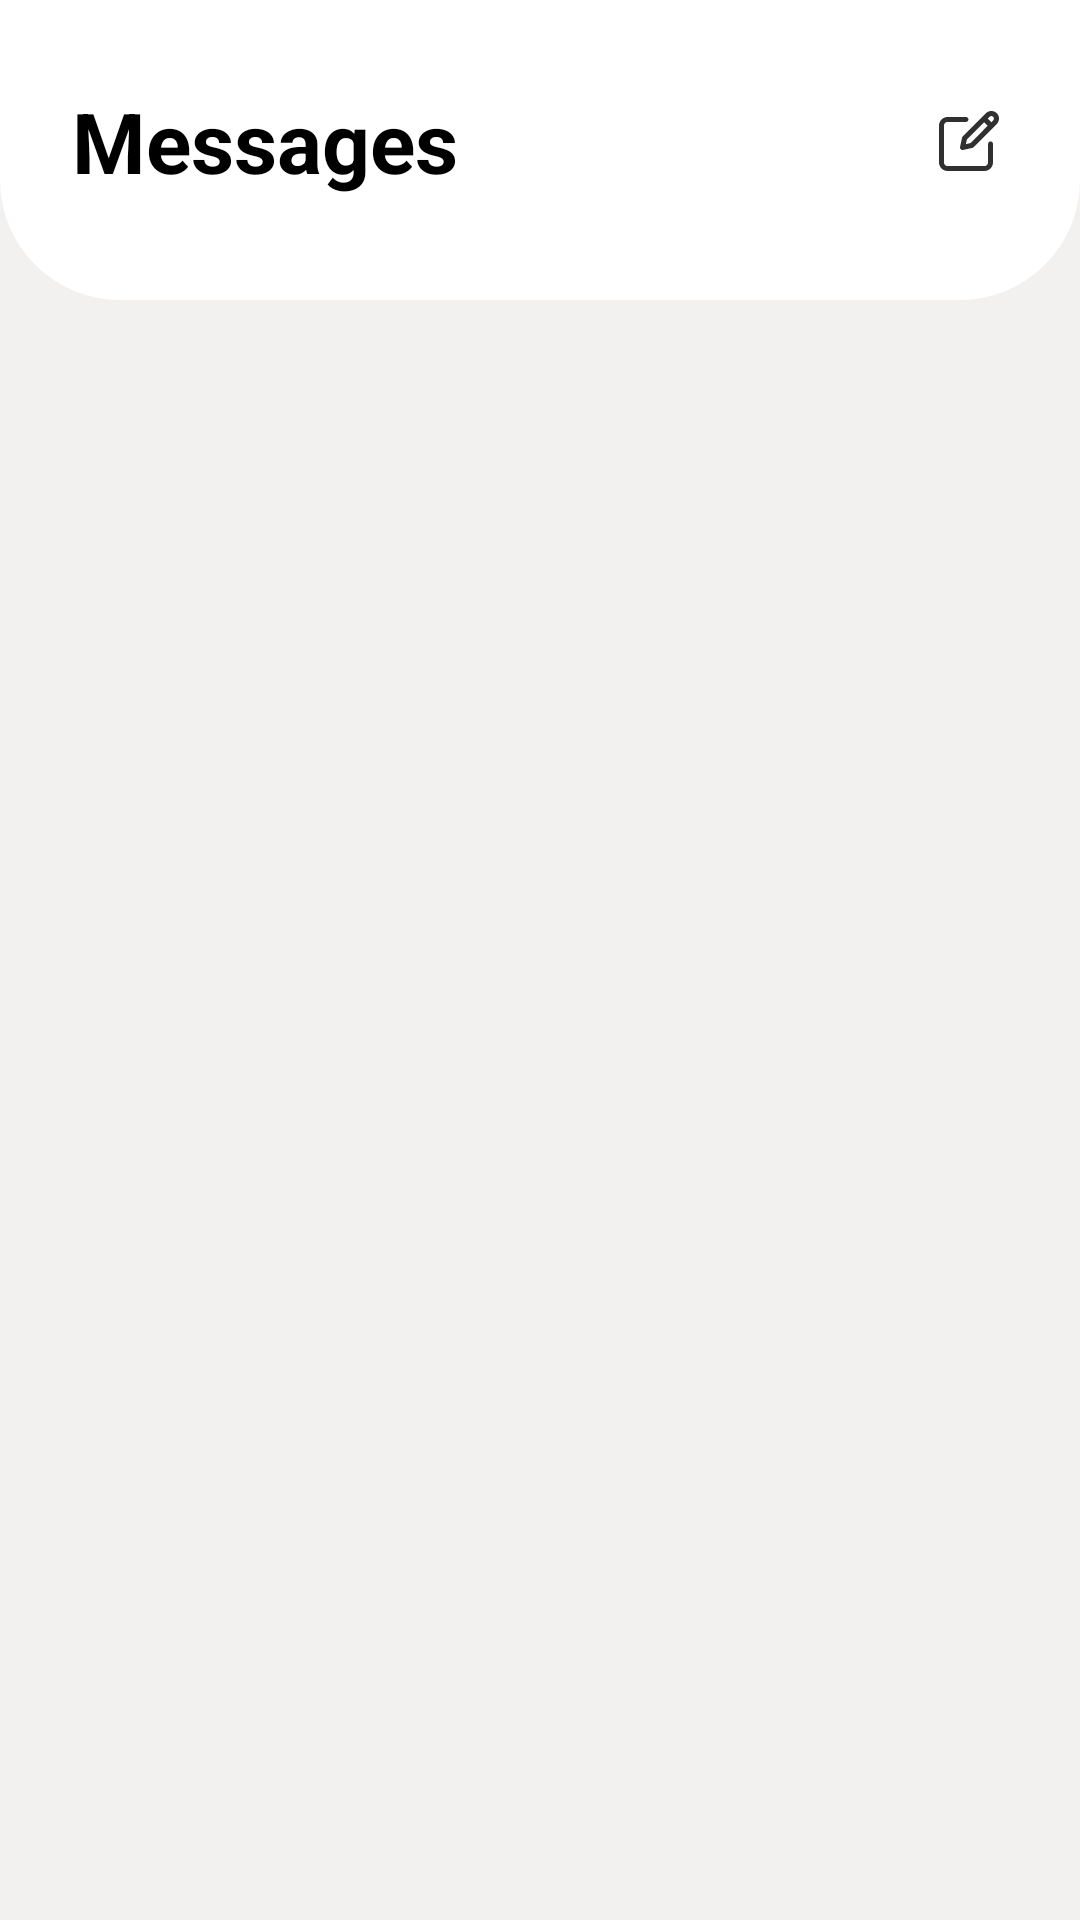

Icon click points for this 1080*1920 phone screenshot, format [x,y]:
create: [969,141]
